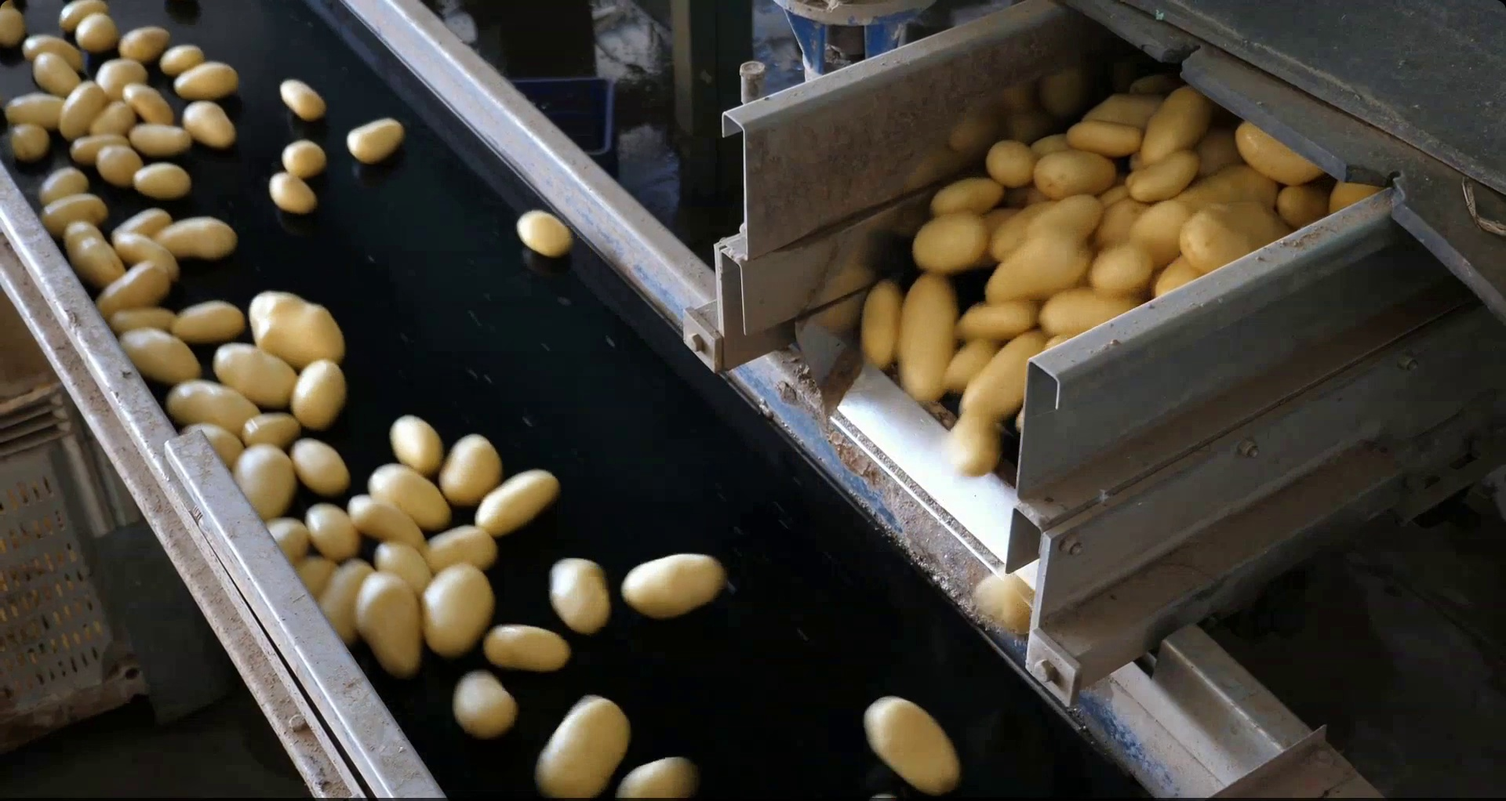potato: (520, 687, 635, 801), (856, 692, 965, 796), (892, 263, 960, 410), (1170, 198, 1293, 278), (242, 282, 351, 372), (611, 546, 735, 625), (350, 565, 427, 682), (957, 324, 1047, 420), (979, 234, 1091, 306), (363, 457, 464, 534), (420, 557, 494, 662), (1230, 117, 1333, 191), (308, 550, 378, 658), (471, 463, 562, 545), (207, 339, 312, 410), (1130, 80, 1214, 168), (433, 426, 513, 511), (159, 376, 264, 440), (904, 205, 992, 279), (542, 549, 615, 638), (220, 441, 301, 521), (110, 320, 203, 389), (977, 187, 1060, 262), (442, 665, 521, 743), (1122, 193, 1197, 275), (1035, 280, 1151, 333), (478, 615, 573, 679), (339, 491, 433, 555), (85, 259, 179, 321), (1120, 144, 1209, 207), (60, 216, 128, 296), (607, 749, 710, 801), (856, 272, 905, 381), (969, 564, 1038, 639), (941, 402, 1004, 484), (287, 354, 352, 433), (1031, 145, 1122, 201), (953, 291, 1042, 346), (420, 519, 498, 581), (511, 198, 579, 268), (149, 212, 241, 263), (1021, 190, 1106, 245), (1079, 237, 1159, 293), (1191, 158, 1279, 208), (386, 407, 446, 480), (111, 228, 184, 286), (167, 295, 250, 346), (29, 190, 115, 239), (938, 331, 995, 404), (1082, 85, 1176, 129), (178, 415, 249, 473), (372, 537, 437, 600), (1060, 111, 1145, 159), (289, 436, 352, 498), (977, 131, 1042, 190), (341, 114, 411, 168), (180, 92, 243, 152), (53, 74, 105, 146), (926, 173, 1007, 219), (1145, 246, 1210, 303), (169, 56, 247, 102), (302, 500, 358, 564), (238, 407, 308, 458), (289, 548, 345, 610), (17, 28, 91, 74), (128, 158, 198, 203), (93, 49, 148, 105), (260, 165, 319, 217), (115, 17, 175, 68), (274, 71, 329, 126), (32, 160, 95, 207), (1, 86, 73, 127), (120, 80, 179, 130), (63, 128, 136, 168), (81, 96, 144, 142), (26, 49, 84, 98), (124, 119, 196, 158), (1093, 196, 1148, 245), (2, 117, 58, 165), (104, 301, 180, 336), (278, 133, 330, 184), (71, 8, 123, 57), (92, 141, 145, 189), (1326, 171, 1379, 219), (1275, 177, 1322, 230), (264, 509, 309, 563), (107, 205, 177, 239), (53, 1, 117, 36), (151, 40, 210, 76), (1195, 131, 1248, 167), (1039, 325, 1079, 358), (1, 1, 26, 50), (1029, 129, 1073, 156), (860, 785, 899, 801), (1008, 409, 1034, 432)
